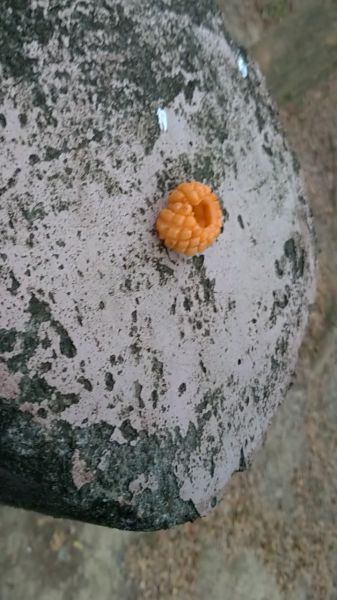eggs: (150, 177, 231, 260)
